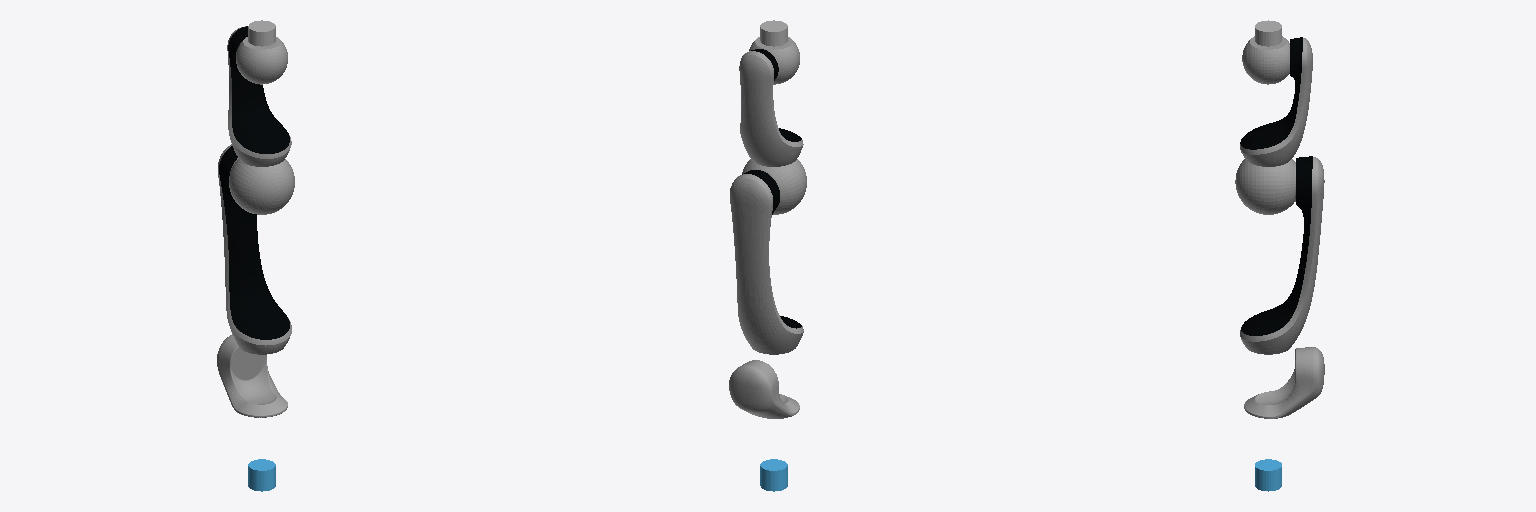
URDF robot description (lwa4p_extended):
<?xml version="1.0" ?>
<!-- =================================================================================== -->
<!-- |    This document was autogenerated by xacro from urdf/robot.urdf.xacro          | -->
<!-- |    EDITING THIS FILE BY HAND IS NOT RECOMMENDED                                 | -->
<!-- =================================================================================== -->
<robot name="lwa4p_extended">
  <material name="Schunk/LightGrey">
    <color rgba="0.7 0.7 0.7 1.0"/>
  </material>
  <material name="Schunk/DarkGrey">
    <color rgba="0.4 0.4 0.4 1.0"/>
  </material>
  <material name="Schunk/Black">
    <color rgba="0.0 0.0 0.0 1.0"/>
  </material>
  <material name="Schunk/DarkGolden">
    <color rgba="0.4 0.4 0.3 1.0"/>
  </material>
  <material name="Schunk/Blue">
    <color rgba="0.0 0.0 0.8 1.0"/>
  </material>
  <!-- Used for fixing robot to Gazebo -->
  <link name="world"/>
  <!-- joint between base_link and lwa4p_extended_connector_link -->
  <joint name="arm_podest_joint" type="fixed">
    <origin rpy="0 0 0" xyz="0 0 0.026"/>
    <parent link="world"/>
    <child link="arm_podest_link"/>
  </joint>
  <link name="arm_podest_link">
    <inertial>
      <mass value="0.01"/>
      <origin xyz="0 0 0"/>
      <inertia ixx="0.001" ixy="0.0" ixz="0.0" iyy="0.001" iyz="0.0" izz="0.001"/>
    </inertial>
    <visual>
      <origin rpy="0 0 0" xyz="0 0 0"/>
      <geometry>
        <cylinder length="0.05" radius="0.03"/>
      </geometry>
    </visual>
    <collision>
      <origin rpy="0 0 0" xyz="0 0 0"/>
      <geometry>
        <cylinder length="0.05" radius="0.03"/>
      </geometry>
    </collision>
  </link>
  <joint name="arm_base_joint" type="fixed">
    <origin rpy="0 0 0" xyz="0 0 0.025"/>
    <parent link="arm_podest_link"/>
    <child link="arm_base_link"/>
  </joint>
  <!-- static part of PRL100 -->
  <link name="arm_base_link">
    <inertial>
      <mass value="0.01"/>
      <origin xyz="0 0 0"/>
      <inertia ixx="0.001" ixy="0.0" ixz="0.0" iyy="0.001" iyz="0.0" izz="0.001"/>
    </inertial>
    <!--
      <xacro:cylinder_inertial radius="0.056" length="0.12" mass="2.0">
        <origin xyz="0 0 ${0.12/2}" rpy="0 0 0" />
      </xacro:cylinder_inertial>
  -->
    <visual>
      <origin rpy="0 0 0" xyz="0 0 0"/>
      <geometry>
        <mesh filename="package://schunk_description/meshes/lwa4p_extended/arm_base_link.stl"/>
      </geometry>
    </visual>
    <collision>
      <origin rpy="0 0 0" xyz="0 0 0"/>
      <geometry>
        <mesh filename="package://schunk_description/meshes/lwa4p_extended/arm_base_link.stl"/>
      </geometry>
    </collision>
  </link>
  <!-- joint between arm_base_link and arm_1_link -->
  <joint name="arm_1_joint" type="revolute">
    <origin rpy="0 0 0" xyz="0 0 0.139"/>
    <parent link="arm_base_link"/>
    <child link="arm_1_link"/>
    <axis xyz="0 0 1"/>
    <dynamics damping="0" friction="0"/>
    <limit effort="81.5" lower="-4.69" upper="4.69" velocity="0.66"/>
    <!--Theoretical limit +/-270 , Real Limit +/- 270-->
    <!--safety_controller k_position="20" k_velocity="50" soft_lower_limit="${-M_PI + 0.01}" soft_upper_limit="${M_PI - 0.01}" /-->
  </joint>
  <!-- prl100 rotor + shoulder flansh -->
  <link name="arm_1_link">
    <inertial>
      <mass value="0.01"/>
      <origin xyz="0 0 0"/>
      <inertia ixx="0.001" ixy="0.0" ixz="0.0" iyy="0.001" iyz="0.0" izz="0.001"/>
    </inertial>
    <!--
      <inertial>
        <origin xyz="0.0 0.0662 0.0473" rpy="0 0 0"/>
        <mass value="0.8"/>
        <inertia ixx="0.002034" ixy="0.0" ixz="0.0" iyy="0.001437" iyz="0.000784" izz="0.00161" />
      </inertial>
-->
    <visual>
      <origin rpy="0 0 0" xyz="0 0 0"/>
      <geometry>
        <mesh filename="package://schunk_description/meshes/lwa4p_extended/arm_1_link.dae"/>
      </geometry>
    </visual>
    <collision>
      <origin rpy="0 0 0" xyz="0 0 0"/>
      <geometry>
        <mesh filename="package://schunk_description/meshes/lwa4p_extended/arm_1_collision.stl"/>
      </geometry>
    </collision>
  </link>
  <!-- joint between arm_1_link and arm_2_link -->
  <joint name="arm_2_joint" type="revolute">
    <origin rpy="1.5707963267948966 0 0" xyz="0 0 0.0915"/>
    <parent link="arm_1_link"/>
    <child link="arm_2_link"/>
    <axis xyz="0 0 1"/>
    <dynamics damping="0" friction="0"/>
    <limit effort="48" lower="-1.89" upper="1.89" velocity="1.57"/>
    <!--Theoretical limit +/-170 , Real Limit +/- 110 (self collision)-->
    <!--safety_controller k_position="20" k_velocity="50" soft_lower_limit="${-2.0943 + 0.01}" soft_upper_limit="${2.0943 - 0.01}" /-->
  </joint>
  <link name="arm_2_link">
    <inertial>
      <mass value="0.01"/>
      <origin xyz="0 0 0"/>
      <inertia ixx="0.001" ixy="0.0" ixz="0.0" iyy="0.001" iyz="0.0" izz="0.001"/>
    </inertial>
    <!--
      <inertial>
        <origin xyz="0 0.018 -0.018" rpy="0 0 0"/>
        <mass value="3.9"/>
        <inertia ixx="0.009780" ixy="0.0" ixz="0.0" iyy="0.013300" iyz="0.0" izz="0.009780" />
      </inertial>
-->
    <visual>
      <origin rpy="0 0 0" xyz="0 0 0"/>
      <geometry>
        <mesh filename="package://schunk_description/meshes/lwa4p_extended/arm_2_link.dae"/>
      </geometry>
    </visual>
    <collision>
      <origin rpy="0 0 0" xyz="0 0 0"/>
      <geometry>
        <mesh filename="package://schunk_description/meshes/lwa4p_extended/arm_2_collision.stl"/>
      </geometry>
    </collision>
  </link>
  <!-- joint between arm_2_link and arm_3_link -->
  <joint name="arm_3_joint" type="revolute">
    <origin rpy="-1.5707963267948966 0 0" xyz="0 0 0"/>
    <parent link="arm_2_link"/>
    <child link="arm_3_link"/>
    <axis xyz="0 0 1"/>
    <dynamics damping="0" friction="0"/>
    <limit effort="48" lower="-2.94" upper="2.94" velocity="1.57"/>
    <!--Theoretical limit +/-170 , Real Limit +/- 170-->
    <!--safety_controller k_position="20" k_velocity="25" soft_lower_limit="${-M_PI + 0.01}" soft_upper_limit="${M_PI - 0.01}" /-->
  </joint>
  <link name="arm_3_link">
    <inertial>
      <mass value="0.01"/>
      <origin xyz="0 0 0"/>
      <inertia ixx="0.001" ixy="0.0" ixz="0.0" iyy="0.001" iyz="0.0" izz="0.001"/>
    </inertial>
    <!--
      <inertial>
        <origin xyz="0.0 0.06247 0.23425" rpy="0 0 0"/>
        <mass value="1.94533"/>
        <inertia ixx="0.0344" ixy="0.0" ixz="0.0077" iyy="0.0362" iyz="0.0" izz="0.0052" />
      </inertial>
-->
    <visual>
      <origin rpy="0 0 0" xyz="0 0 0"/>
      <geometry>
        <mesh filename="package://schunk_description/meshes/lwa4p_extended/arm_3_link.dae"/>
      </geometry>
    </visual>
    <collision>
      <origin rpy="0 0 0" xyz="0 0 0"/>
      <geometry>
        <mesh filename="package://schunk_description/meshes/lwa4p_extended/arm_3_collision.stl"/>
      </geometry>
    </collision>
  </link>
  <!-- joint between arm_3_link and arm_4_link -->
  <joint name="arm_4_joint" type="revolute">
    <origin rpy="1.5707963267948966 0 0" xyz="0 0 0.45360"/>
    <parent link="arm_3_link"/>
    <child link="arm_4_link"/>
    <axis xyz="0 0 1"/>
    <dynamics damping="0" friction="0"/>
    <limit effort="48" lower="-2.59" upper="2.59" velocity="1.57"/>
    <!--Theoretical limit +/-170 , Real Limit +/- 150 (self collision)-->
    <!--safety_controller k_position="20" k_velocity="25" soft_lower_limit="${-2.0943951 + 0.01}" soft_upper_limit="${2.0943951 - 0.01}" /-->
  </joint>
  <link name="arm_4_link">
    <inertial>
      <mass value="0.01"/>
      <origin xyz="0 0 0"/>
      <inertia ixx="0.001" ixy="0.0" ixz="0.0" iyy="0.001" iyz="0.0" izz="0.001"/>
    </inertial>
    <!--
      <inertial>
        <origin xyz="0 0.018 -0.018" rpy="0 0 0"/>
        <mass value="3.9"/>
        <inertia ixx="0.009780" ixy="0.0" ixz="0.0" iyy="0.013300" iyz="0.0" izz="0.009780" />
      </inertial>
-->
    <visual>
      <origin rpy="0 0 0" xyz="0 0 0"/>
      <geometry>
        <mesh filename="package://schunk_description/meshes/lwa4p_extended/arm_4_link.dae"/>
      </geometry>
    </visual>
    <collision>
      <origin rpy="0 0 0" xyz="0 0 0"/>
      <geometry>
        <mesh filename="package://schunk_description/meshes/lwa4p_extended/arm_4_collision.stl"/>
      </geometry>
    </collision>
  </link>
  <!-- joint between arm_4_link and arm_5_link -->
  <joint name="arm_5_joint" type="revolute">
    <origin rpy="-1.5707963267948966 0 0" xyz="0 0 0"/>
    <parent link="arm_4_link"/>
    <child link="arm_5_link"/>
    <axis xyz="0 0 1"/>
    <dynamics damping="0" friction="0"/>
    <limit effort="48" lower="-2.94" upper="2.94" velocity="1.57"/>
    <!--Theoretical limit +/-170 , Real Limit +/- 170-->
    <!--safety_controller k_position="20" k_velocity="25" soft_lower_limit="${-M_PI + 0.01}" soft_upper_limit="${M_PI - 0.01}" /-->
  </joint>
  <link name="arm_5_link">
    <inertial>
      <mass value="0.01"/>
      <origin xyz="0 0 0"/>
      <inertia ixx="0.001" ixy="0.0" ixz="0.0" iyy="0.001" iyz="0.0" izz="0.001"/>
    </inertial>
    <!--
      <inertial>
        <origin xyz="0.0 0.04175 0.17026" rpy="0 0 0"/>
        <mass value="1.3297"/>
        <inertia ixx="0.01" ixy="0.0" ixz="-0.0031" iyy="0.0111" iyz="0.0" izz="0.0031" />
      </inertial>
-->
    <visual>
      <origin rpy="0 0 0" xyz="0 0 0"/>
      <geometry>
        <mesh filename="package://schunk_description/meshes/lwa4p_extended/arm_5_link.dae"/>
      </geometry>
    </visual>
    <collision>
      <origin rpy="0 0 0" xyz="0 0 0"/>
      <geometry>
        <mesh filename="package://schunk_description/meshes/lwa4p_extended/arm_5_collision.stl"/>
      </geometry>
    </collision>
  </link>
  <!-- joint between arm_5_link and arm_6_link -->
  <joint name="arm_6_joint" type="revolute">
    <origin rpy="1.5707963267948966 0 0" xyz="0 0 0.2986"/>
    <parent link="arm_5_link"/>
    <child link="arm_6_link"/>
    <axis xyz="0 0 1"/>
    <dynamics damping="0" friction="0"/>
    <limit effort="15" lower="-2.94" upper="2.94" velocity="2.09"/>
    <!--Theoretical limit +/-170 , Real Limit -140/+170 (self collision)-->
    <!--safety_controller k_position="20" k_velocity="25" soft_lower_limit="${-2.0943951 + 0.01}" soft_upper_limit="${2.0943951 - 0.01}" /-->
  </joint>
  <link name="arm_6_link">
    <inertial>
      <mass value="0.01"/>
      <origin xyz="0 0 0"/>
      <inertia ixx="0.001" ixy="0.0" ixz="0.0" iyy="0.001" iyz="0.0" izz="0.001"/>
    </inertial>
    <!--
      <inertial>
        <origin xyz="0 0.012 -0.012" rpy="0 0 0"/>
        <mass value="1.9"/>
        <inertia ixx="0.002750" ixy="0.0" ixz="0.0" iyy="0.004002" iyz="0.0" izz="0.002830" />
      </inertial>
-->
    <visual>
      <origin rpy="0 0 0" xyz="0 0 0"/>
      <geometry>
        <mesh filename="package://schunk_description/meshes/lwa4p_extended/arm_6_link.dae"/>
      </geometry>
    </visual>
    <collision>
      <origin rpy="0 0 0" xyz="0 0 0"/>
      <geometry>
        <mesh filename="package://schunk_description/meshes/lwa4p_extended/arm_6_collision.stl"/>
      </geometry>
    </collision>
  </link>
  <!-- joint between arm_6_link and arm_7_link -->
  <joint name="arm_7_joint" type="revolute">
    <origin rpy="-1.5707963267948966 0 0" xyz="0 0 0"/>
    <parent link="arm_6_link"/>
    <child link="arm_7_link"/>
    <axis xyz="0 0 1"/>
    <dynamics damping="0" friction="0"/>
    <limit effort="15" lower="-3.73" upper="2.16" velocity="2.09"/>
    <!--Theoretical limit +127/-215 , Real Limit +127/-215-->
    <!--safety_controller k_position="20" k_velocity="25" soft_lower_limit="${-2.0943951 + 0.01}" soft_upper_limit="${2.0943951 - 0.01}" /-->
  </joint>
  <link name="arm_7_link">
    <inertial>
      <mass value="0.01"/>
      <origin xyz="0 0 0"/>
      <inertia ixx="0.001" ixy="0.0" ixz="0.0" iyy="0.001" iyz="0.0" izz="0.001"/>
    </inertial>
    <!--
      <xacro:cylinder_inertial radius="0.03" length="0.035" mass="0.05">
        <origin xyz="0 0 0.06" rpy="0 0 0"/>
      </xacro:cylinder_inertial>
-->
    <visual>
      <origin rpy="0 0 0" xyz="0 0 0.06"/>
      <geometry>
        <cylinder length="0.035" radius="0.03"/>
      </geometry>
      <material name="Schunk/LightGrey"/>
    </visual>
    <collision>
      <origin rpy="0 0 0" xyz="0 0 0.06"/>
      <geometry>
        <cylinder length="0.035" radius="0.03"/>
      </geometry>
    </collision>
  </link>
  <!--
    <gazebo reference="${name}_base_link">
      <gravity>true</gravity>
      <self_collide>false</self_collide>
    </gazebo>

    <gazebo reference="${name}_1_link">
      <gravity>true</gravity>
      <self_collide>false</self_collide>
    </gazebo>

    <gazebo reference="${name}_2_link">
      <gravity>true</gravity>
      <self_collide>false</self_collide>
    </gazebo>

    <gazebo reference="${name}_3_link">
      <gravity>true</gravity>
      <self_collide>false</self_collide>
    </gazebo>

    <gazebo reference="${name}_4_link">
      <gravity>true</gravity>
      <self_collide>false</self_collide>
    </gazebo>

    <gazebo reference="${name}_5_link">
      <gravity>true</gravity>
      <self_collide>false</self_collide>
    </gazebo>

    <gazebo reference="${name}_6_link">
      <gravity>true</gravity>
      <self_collide>false</self_collide>
    </gazebo>

    <gazebo reference="${name}_7_link">
      <gravity>true</gravity>
      <self_collide>false</self_collide>
      <material value="Schunk/LightGrey" />
    </gazebo>
-->
  <transmission name="arm_1_trans">
    <type>transmission_interface/SimpleTransmission</type>
    <joint name="arm_1_joint">
      <hardwareInterface>hardware_interface/PositionJointInterface</hardwareInterface>
      <hardwareInterface>hardware_interface/VelocityJointInterface</hardwareInterface>
      <!--hardwareInterface>EffortJointInterface</hardwareInterface-->
    </joint>
    <actuator name="arm_1_motor">
      <mechanicalReduction>1</mechanicalReduction>
    </actuator>
  </transmission>
  <transmission name="arm_2_trans">
    <type>transmission_interface/SimpleTransmission</type>
    <joint name="arm_2_joint">
      <hardwareInterface>hardware_interface/PositionJointInterface</hardwareInterface>
      <hardwareInterface>hardware_interface/VelocityJointInterface</hardwareInterface>
      <!--hardwareInterface>EffortJointInterface</hardwareInterface-->
    </joint>
    <actuator name="arm_2_motor">
      <mechanicalReduction>1</mechanicalReduction>
    </actuator>
  </transmission>
  <transmission name="arm_3_trans">
    <type>transmission_interface/SimpleTransmission</type>
    <joint name="arm_3_joint">
      <hardwareInterface>hardware_interface/PositionJointInterface</hardwareInterface>
      <hardwareInterface>hardware_interface/VelocityJointInterface</hardwareInterface>
      <!--hardwareInterface>EffortJointInterface</hardwareInterface-->
    </joint>
    <actuator name="arm_3_motor">
      <mechanicalReduction>1</mechanicalReduction>
    </actuator>
  </transmission>
  <transmission name="arm_4_trans">
    <type>transmission_interface/SimpleTransmission</type>
    <joint name="arm_4_joint">
      <hardwareInterface>hardware_interface/PositionJointInterface</hardwareInterface>
      <hardwareInterface>hardware_interface/VelocityJointInterface</hardwareInterface>
      <!--hardwareInterface>EffortJointInterface</hardwareInterface-->
    </joint>
    <actuator name="arm_4_motor">
      <mechanicalReduction>1</mechanicalReduction>
    </actuator>
  </transmission>
  <transmission name="arm_5_trans">
    <type>transmission_interface/SimpleTransmission</type>
    <joint name="arm_5_joint">
      <hardwareInterface>hardware_interface/PositionJointInterface</hardwareInterface>
      <hardwareInterface>hardware_interface/VelocityJointInterface</hardwareInterface>
      <!--hardwareInterface>EffortJointInterface</hardwareInterface-->
    </joint>
    <actuator name="arm_5_motor">
      <mechanicalReduction>1</mechanicalReduction>
    </actuator>
  </transmission>
  <transmission name="arm_6_trans">
    <type>transmission_interface/SimpleTransmission</type>
    <joint name="arm_6_joint">
      <hardwareInterface>hardware_interface/PositionJointInterface</hardwareInterface>
      <hardwareInterface>hardware_interface/VelocityJointInterface</hardwareInterface>
      <!--hardwareInterface>EffortJointInterface</hardwareInterface-->
    </joint>
    <actuator name="arm_6_motor">
      <mechanicalReduction>1</mechanicalReduction>
    </actuator>
  </transmission>
  <transmission name="arm_7_trans">
    <type>transmission_interface/SimpleTransmission</type>
    <joint name="arm_7_joint">
      <hardwareInterface>hardware_interface/PositionJointInterface</hardwareInterface>
      <hardwareInterface>hardware_interface/VelocityJointInterface</hardwareInterface>
      <!--hardwareInterface>EffortJointInterface</hardwareInterface-->
    </joint>
    <actuator name="arm_7_motor">
      <mechanicalReduction>1</mechanicalReduction>
    </actuator>
  </transmission>
  <!-- ros_control plugin -->
  <gazebo>
    <plugin filename="libhwi_switch_gazebo_ros_control.so" name="ros_control">
      <robotNamespace>arm</robotNamespace>
      <filterJointsParam>joint_names</filterJointsParam>
    </plugin>
  </gazebo>
</robot>

--- Facts derived from the render (not from the file) ---
Views: 3 orthographic renders of the robot side by side, from view 1: azimuth 30°, elevation 25°; view 2: azimuth 150°, elevation 25°; view 3: azimuth 270°, elevation 25°.
Model lwa4p_extended with 10 links and 9 joints (7 revolute, 2 fixed), rooted at world, posed every joint at zero.
Visible links, largest first — view 1: arm_3_link, arm_5_link, arm_1_link, arm_4_link, arm_6_link, arm_podest_link, arm_7_link; view 2: arm_3_link, arm_5_link, arm_1_link, arm_4_link, arm_6_link, arm_podest_link, arm_7_link; view 3: arm_3_link, arm_5_link, arm_1_link, arm_4_link, arm_6_link, arm_podest_link, arm_7_link.
Boxes of the visible links, box(x1,y1,x2,y2) form: arm_3_link: box(218, 144, 291, 354); arm_5_link: box(227, 26, 291, 166); arm_1_link: box(217, 334, 287, 417); arm_4_link: box(229, 158, 294, 214); arm_6_link: box(236, 37, 287, 84); arm_podest_link: box(248, 459, 275, 491); arm_7_link: box(248, 20, 275, 46); arm_3_link: box(730, 170, 803, 354); arm_5_link: box(739, 49, 803, 166); arm_1_link: box(729, 360, 799, 418); arm_4_link: box(742, 159, 806, 214); arm_6_link: box(749, 37, 799, 84); arm_podest_link: box(760, 459, 787, 491); arm_7_link: box(760, 20, 787, 46); arm_3_link: box(1240, 156, 1324, 354); arm_5_link: box(1240, 37, 1312, 166); arm_1_link: box(1244, 347, 1324, 418); arm_4_link: box(1235, 159, 1295, 214); arm_6_link: box(1242, 36, 1289, 84); arm_podest_link: box(1255, 459, 1281, 491); arm_7_link: box(1255, 20, 1281, 46).
Size in the robot's own frame: 0.1447 by 0.1954 by 1.11 metres.
5 mesh visuals loaded from 7 distinct referenced files (5 Collada DAE); not drawn: 2 (reference not matched to a file when rendering).
